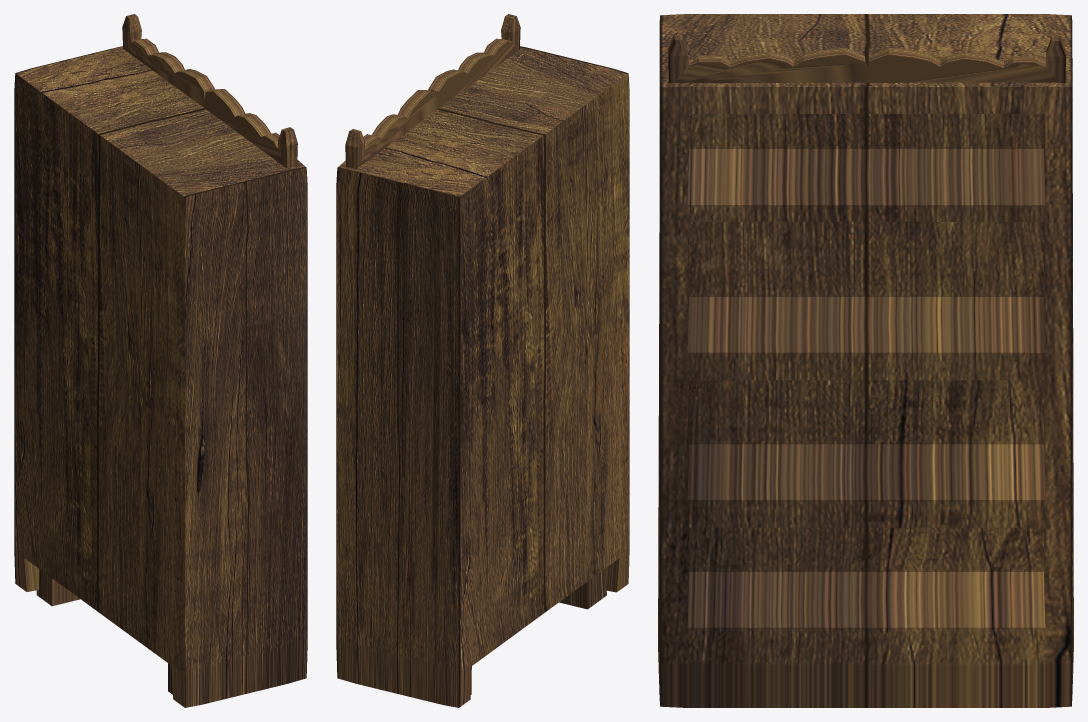
The model's file is Bookshelf.fbx.
The picture shows the model from 3 angles, left to right: view 1: azimuth 30°, elevation 25°; view 2: azimuth 150°, elevation 25°; view 3: azimuth 270°, elevation 25°; orthographic projection. The views are drawn at different scales.
Visible parts, largest first — view 1: Cube; view 2: Cube; view 3: Cube.
Part boxes in pixels (box(x1,y1,x2,y2)): Cube: box(14, 14, 307, 707); Cube: box(336, 14, 629, 707); Cube: box(658, 14, 1073, 707).
Bounding box in the file's own units: 131 × 549 × 308.
